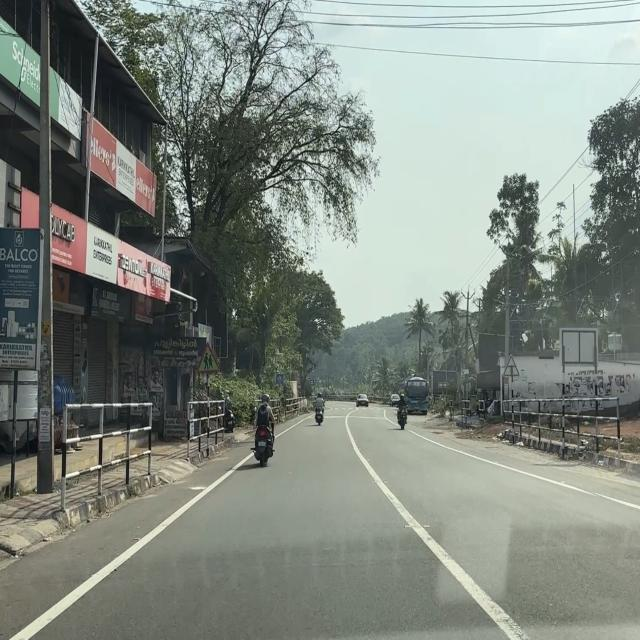SCHOOL_AHEAD: (196, 341, 221, 374)
